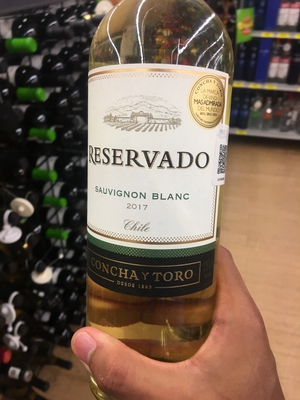reservado sauvignon blanc: (76, 10, 245, 367)
